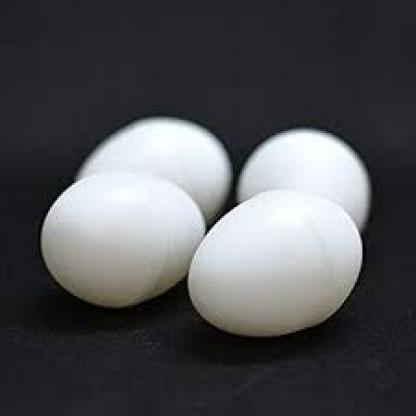egg: (188, 190, 366, 338), (38, 171, 207, 309), (77, 114, 236, 228), (237, 128, 372, 233)
